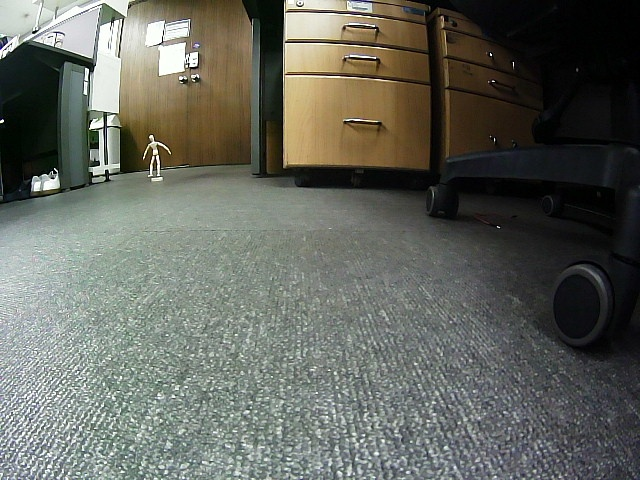person: (143, 134, 172, 177)
